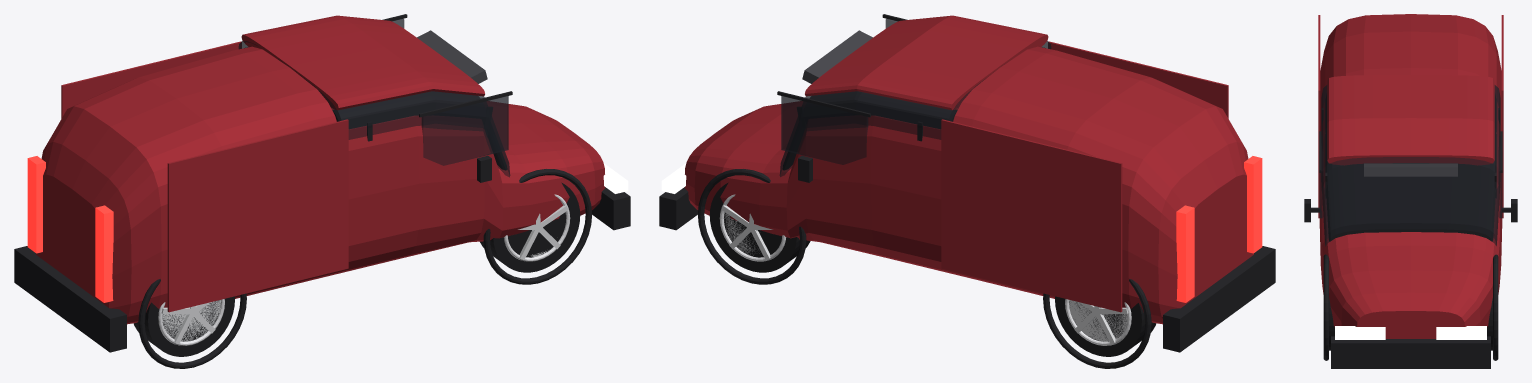
Rendered from car_van.glb.
3 views of the same model, side by side, from view 1: azimuth 30°, elevation 25°; view 2: azimuth 150°, elevation 25°; view 3: azimuth 270°, elevation 25° (orthographic). The views are drawn at different scales.
Visible parts, largest first — view 1: CarBody, CargoDoorR, RoofCap, BumperR, Glass, SideWinR, Tire_1, CabinVAN, Tire_3, CargoDoorL, Arch1.7_-1, TailR (+7 smaller); view 2: CarBody, CargoDoorL, RoofCap, BumperR, Glass, SideWinL, Tire_0, CabinVAN, CargoDoorR, Tire_2, Arch1.7_1, TailL (+7 smaller); view 3: CarBody, RoofCap, Glass, CabinVAN, BumperF, DashVAN, HeadL, HeadR, Arch1.7_1, Arch1.7_-1, CargoDoorR, CargoDoorL (+2 smaller).
Boxes of the visible parts, bbox=[...] form: CarBody: bbox=[36, 46, 605, 324]; CargoDoorR: bbox=[167, 119, 348, 312]; RoofCap: bbox=[241, 15, 484, 110]; BumperR: bbox=[14, 246, 126, 352]; Glass: bbox=[238, 41, 510, 177]; SideWinR: bbox=[421, 96, 508, 165]; Tire_1: bbox=[480, 182, 580, 272]; CabinVAN: bbox=[244, 47, 507, 170]; Tire_3: bbox=[133, 296, 234, 356]; CargoDoorL: bbox=[61, 41, 241, 118]; Arch1.7_-1: bbox=[483, 169, 591, 284]; TailR: bbox=[95, 205, 113, 302]; CarBody: bbox=[684, 46, 1253, 324]; CargoDoorL: bbox=[941, 119, 1122, 312]; RoofCap: bbox=[805, 15, 1048, 110]; BumperR: bbox=[1163, 246, 1275, 352]; Glass: bbox=[779, 41, 1051, 176]; SideWinL: bbox=[781, 96, 868, 164]; Tire_0: bbox=[709, 182, 810, 272]; CabinVAN: bbox=[782, 47, 1045, 170]; CargoDoorR: bbox=[1048, 41, 1228, 118]; Tire_2: bbox=[1055, 296, 1156, 356]; Arch1.7_1: bbox=[698, 169, 806, 284]; TailL: bbox=[1176, 205, 1194, 302]; CarBody: bbox=[1319, 14, 1502, 338]; RoofCap: bbox=[1327, 75, 1494, 165]; Glass: bbox=[1321, 85, 1500, 246]; CabinVAN: bbox=[1325, 92, 1496, 241]; BumperF: bbox=[1331, 336, 1490, 368]; DashVAN: bbox=[1364, 163, 1457, 176]; HeadL: bbox=[1436, 326, 1486, 339]; HeadR: bbox=[1335, 326, 1385, 339]; Arch1.7_1: bbox=[1493, 254, 1498, 360]; Arch1.7_-1: bbox=[1323, 254, 1328, 360]; CargoDoorR: bbox=[1318, 15, 1320, 218]; CargoDoorL: bbox=[1501, 15, 1503, 218].
Size of the model in its own units: 5.52 by 2.32 by 2.27.
